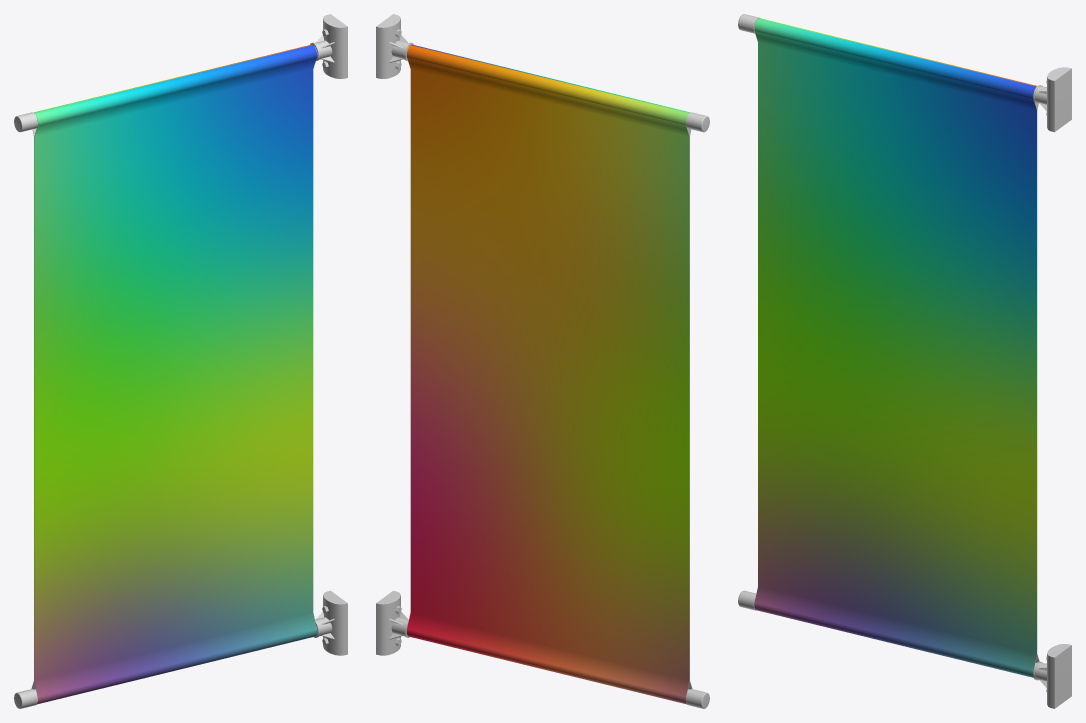
Rendered from street_banner_01_medium.glb.
The picture shows the model from 3 angles, left to right: view 1: azimuth 30°, elevation 25°; view 2: azimuth 150°, elevation 25°; view 3: azimuth 330°, elevation 25°; orthographic projection.
Parts seen in each view (by area): view 1: street_banner_01_medium; view 2: street_banner_01_medium; view 3: street_banner_01_medium.
Part boxes in pixels (<box>): street_banner_01_medium: <box>14,14,347,708</box>; street_banner_01_medium: <box>376,14,709,708</box>; street_banner_01_medium: <box>738,14,1071,708</box>.
Size of the model in its own units: 0.7022 by 1.31 by 0.0655.
3 materials, 3 textured.
